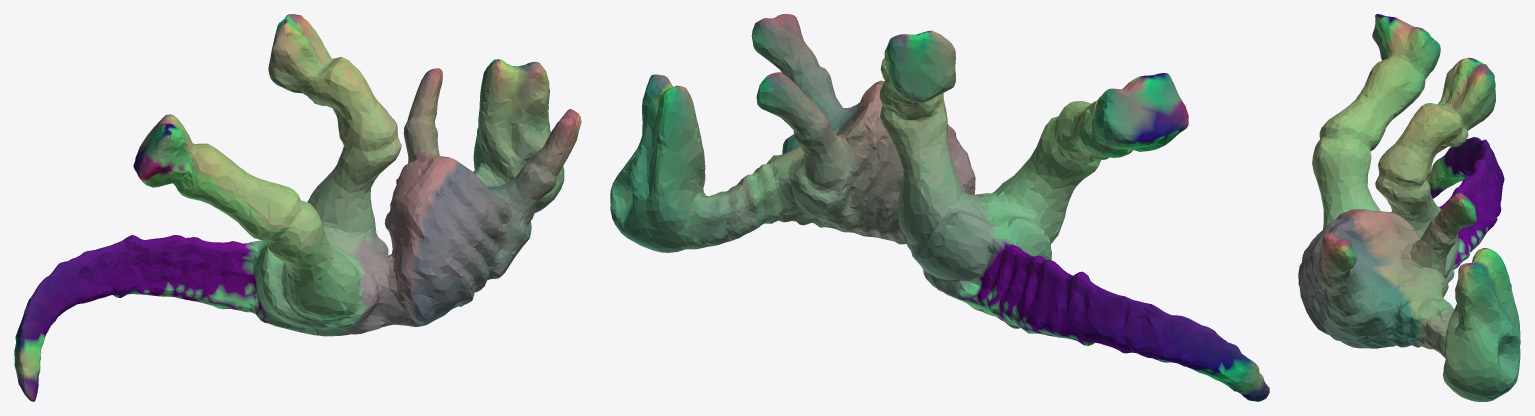
The model's file is dino_skel-16.off.obj.
The picture shows the model from 3 angles, left to right: view 1: azimuth 30°, elevation 25°; view 2: azimuth 150°, elevation 25°; view 3: azimuth 270°, elevation 25°; orthographic projection. The views are drawn at different scales.
Size of the model in its own units: 1.5 by 0.7372 by 0.5533.
